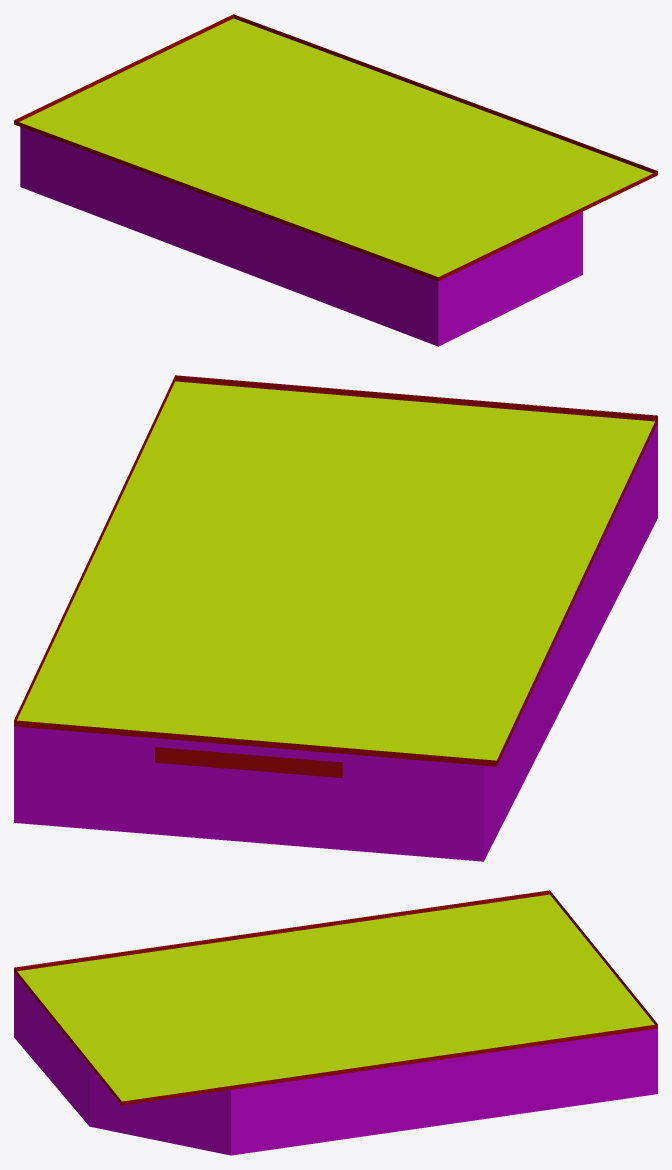
The model's file is bgj_195.glb.
3 renders of one model, top to bottom at view 1: azimuth 30°, elevation 25°; view 2: azimuth 150°, elevation 25°; view 3: azimuth 270°, elevation 25°, orthographic. The views are drawn at different scales.
Parts seen in each view (by area): view 1: bgj_195; view 2: bgj_195; view 3: bgj_195.
Part boxes in pixels (x1,y1,x2,y2): bgj_195: [14, 14, 657, 346]; bgj_195: [14, 375, 657, 861]; bgj_195: [14, 890, 657, 1155].
Size of the model in its own units: 37.99 by 5.86 by 48.96.
